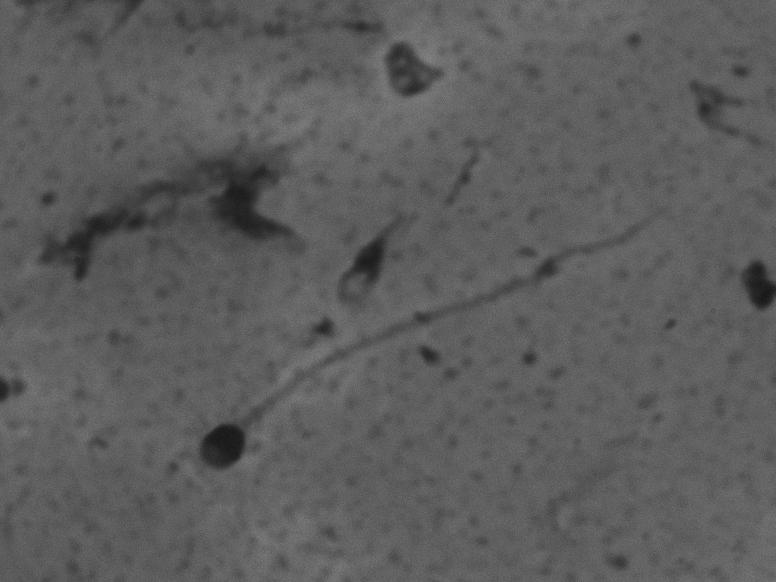Abnormal: (164, 194, 681, 483)
